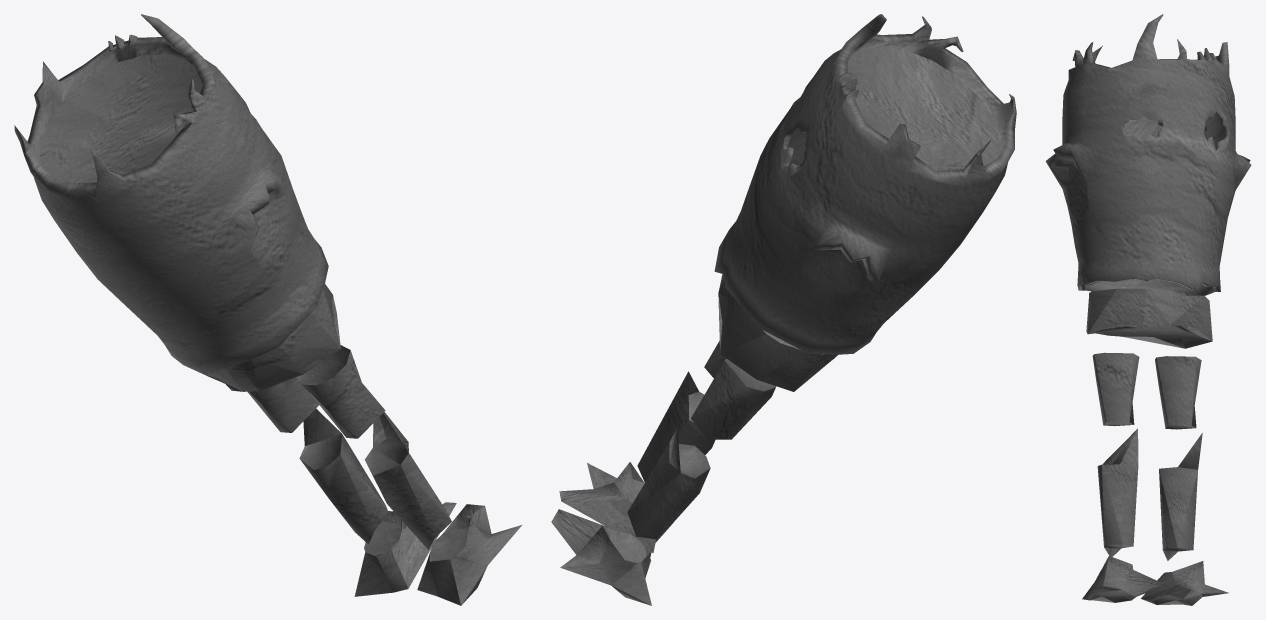
Rendered from CharacterShape.dae.
3 renders of one model, left to right at view 1: azimuth 30°, elevation 25°; view 2: azimuth 150°, elevation 25°; view 3: azimuth 270°, elevation 25°, orthographic. The views are drawn at different scales.
Parts seen in each view (by area): view 1: Character; view 2: Character; view 3: Character.
Part boxes in pixels (box(x1,y1,x2,y2)): Character: box(14, 14, 521, 605); Character: box(551, 14, 1016, 605); Character: box(1045, 14, 1251, 605).
Bounding box in the file's own units: 2.65 × 3.55 × 1.31.
